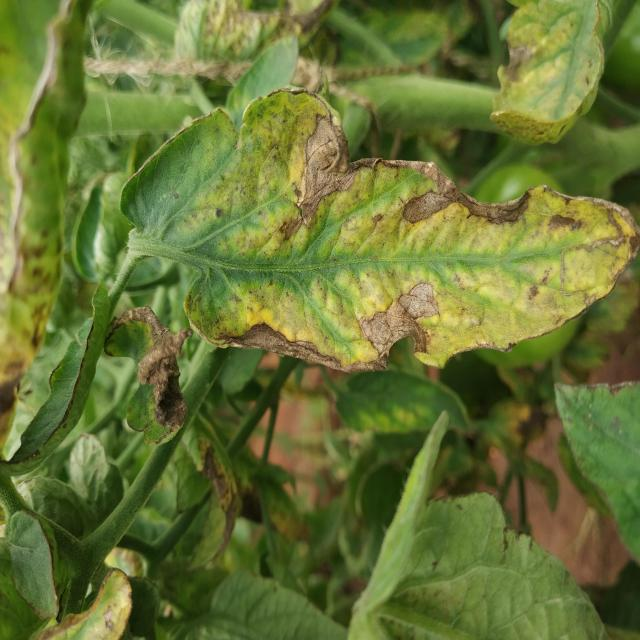Early Blight: (263, 120, 558, 639)
